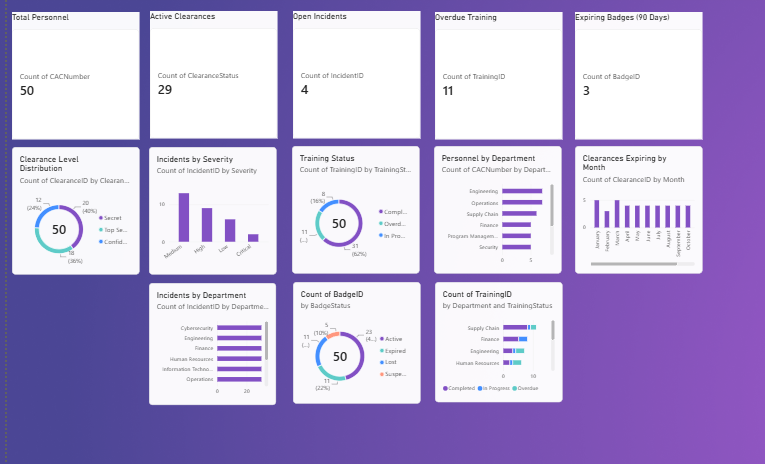

Layout of this report page (visuals, bound fields, positions):
{"tool":"powerbi","page":{"name":"Page 1","canvas":[1920,1080],"ordinal":0},"visuals":[{"type":"cardVisual","title":"Total Personnel","fields":{"Data":["Count(people.CACNumber)"]},"box":[10.6,29.1,279.9,279.9],"z":0},{"type":"cardVisual","title":"Active Clearances ","fields":{"Data":["CountNonNull(clearance.ClearanceStatus)"]},"box":[314.3,26.4,279.9,279.9],"z":1000},{"type":"cardVisual","title":"Open Incidents","fields":{"Data":["CountNonNull(incidents.IncidentID)"]},"box":[628.6,26.4,279.9,279.9],"z":2000},{"type":"cardVisual","title":"Overdue Training","fields":{"Data":["CountNonNull(training.TrainingID)"]},"box":[940.2,29.1,279.9,279.9],"z":3000},{"type":"cardVisual","title":"Expiring Badges (90 Days)","fields":{"Data":["CountNonNull(badge_access.BadgeID)"]},"box":[1246.5,29.1,279.9,279.9],"z":4000},{"type":"donutChart","title":"Clearance Level Distribution","fields":{"Category":["clearance.ClearanceLevel"],"Y":["CountNonNull(clearance.ClearanceID)"]},"box":[10,325,280,280],"z":5000},{"type":"clusteredColumnChart","title":"Incidents by Severity","fields":{"Category":["incidents.Severity"],"Y":["CountNonNull(incidents.IncidentID)"]},"box":[311.6,324.8,279.9,279.9],"z":6000},{"type":"donutChart","title":"Training Status","fields":{"Category":["training.TrainingStatus"],"Y":["CountNonNull(training.TrainingID)"]},"box":[625.9,322.2,279.9,279.9],"z":7000},{"type":"clusteredBarChart","title":"Personnel by Department","fields":{"Category":["people.Department"],"Y":["Count(people.CACNumber)"]},"box":[937.6,322.2,279.9,279.9],"z":8000},{"type":"clusteredColumnChart","title":"Clearances Expiring by Month","fields":{"Category":["clearance.ExpirationDate.Variation.Date Hierarchy.Month"],"Y":["CountNonNull(clearance.ClearanceID)"]},"box":[1246.5,322.2,279.9,279.9],"z":9000},{"type":"clusteredBarChart","title":"Incidents by Department","fields":{"Category":["people.Department"],"Y":["CountNonNull(incidents.IncidentID)"]},"box":[311.7,623.4,278.8,267.8],"z":10000},{"type":"donutChart","fields":{"Category":["badge_access.BadgeStatus"],"Y":["CountNonNull(badge_access.BadgeID)"]},"box":[628.6,620.6,279.9,266.7],"z":11000},{"type":"barChart","fields":{"Category":["people.Department"],"Series":["training.TrainingStatus"],"Y":["CountNonNull(training.TrainingID)"]},"box":[940.2,620.6,279.9,264.1],"z":12000}]}

Visuals, with their boxes on the page's 1920x1080 design canvas (x1, y1, x2, y2). These are canvas units, not pixel positions in the 765x464 screenshot, which may show the page scaled, cropped or inside an application window:
"Total Personnel" cardVisual: 11/29/290/309
"Active Clearances " cardVisual: 314/26/594/306
"Open Incidents" cardVisual: 629/26/908/306
"Overdue Training" cardVisual: 940/29/1220/309
"Expiring Badges (90 Days)" cardVisual: 1246/29/1526/309
"Clearance Level Distribution" donutChart: 10/325/290/605
"Incidents by Severity" clusteredColumnChart: 312/325/592/605
"Training Status" donutChart: 626/322/906/602
"Personnel by Department" clusteredBarChart: 938/322/1218/602
"Clearances Expiring by Month" clusteredColumnChart: 1246/322/1526/602
"Incidents by Department" clusteredBarChart: 312/623/590/891
donutChart - badge_access.BadgeStatus x CountNonNull(badge_access.BadgeID): 629/621/908/887
barChart - people.Department x training.TrainingStatus: 940/621/1220/885
